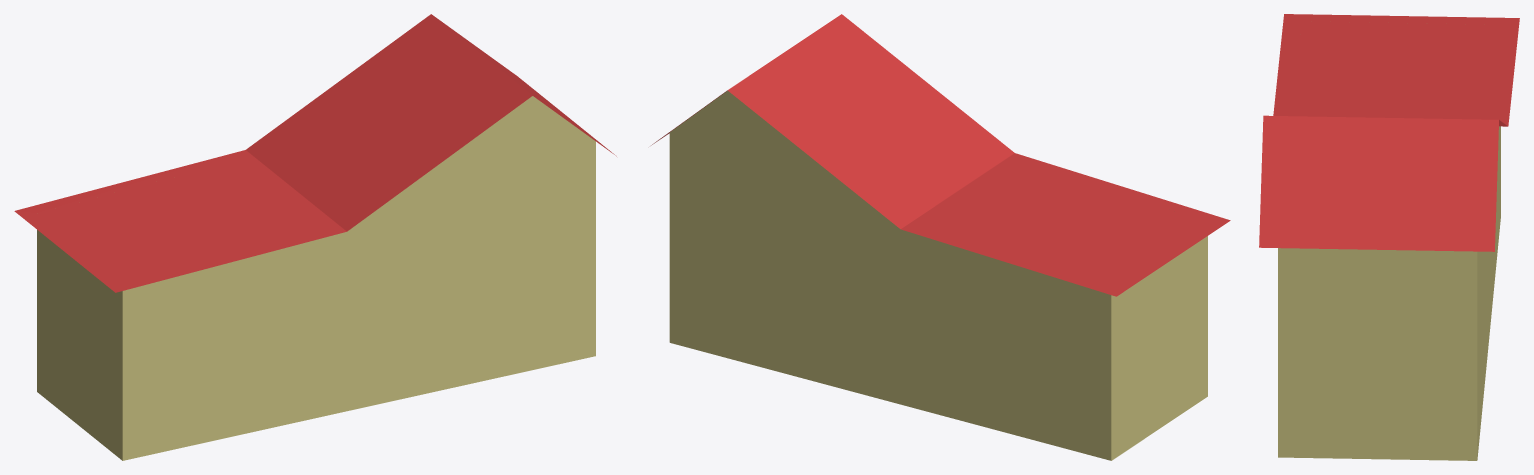
3 views of the same model, side by side, from view 1: azimuth 30°, elevation 25°; view 2: azimuth 150°, elevation 25°; view 3: azimuth 270°, elevation 25° (orthographic). The views are drawn at different scales.
Size of the model in its own units: 17.07 by 7.15 by 9.22.
